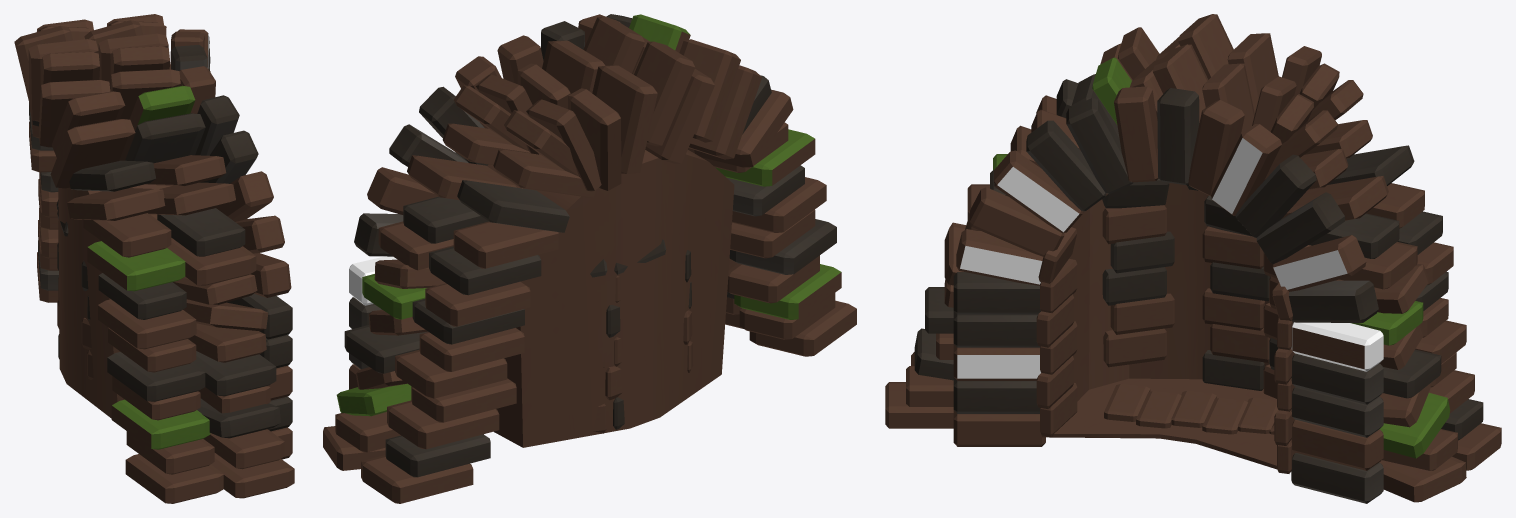
Rendered from monumentoFinalDerecha.fbx.
3 views of the same model, side by side, from view 1: azimuth 30°, elevation 25°; view 2: azimuth 150°, elevation 25°; view 3: azimuth 270°, elevation 25° (orthographic). The views are drawn at different scales.
Visible parts, largest first — view 1: group70; view 2: group70; view 3: group70.
Part boxes in pixels (x1=…): group70: x1=14, y1=14, x2=294, y2=503; group70: x1=323, y1=14, x2=856, y2=503; group70: x1=885, y1=14, x2=1501, y2=503.
Bounding box in the file's own units: 842 × 1073 × 1615.
